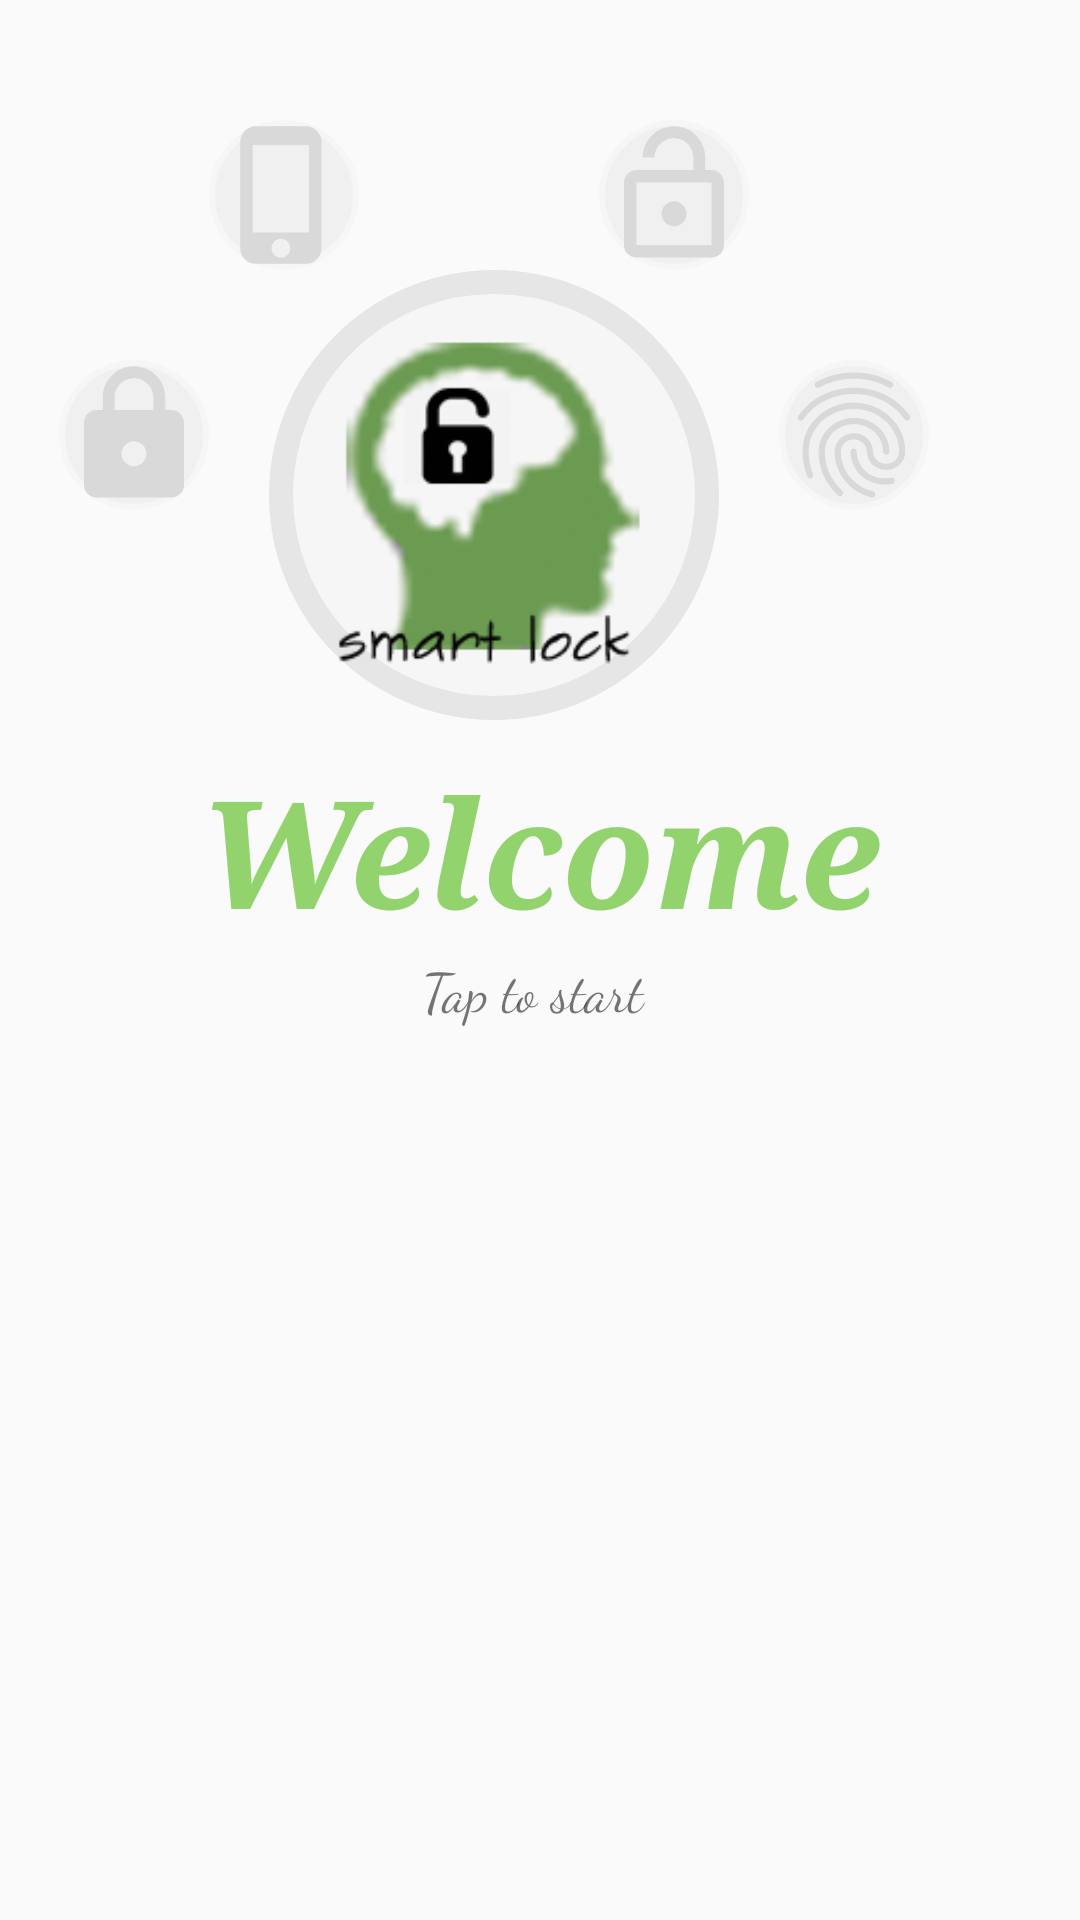

Icons on this 1080px x 1920px Android screen, each with the point to tap as point (x, y):
lock: point (134, 431)
phone: point (280, 195)
